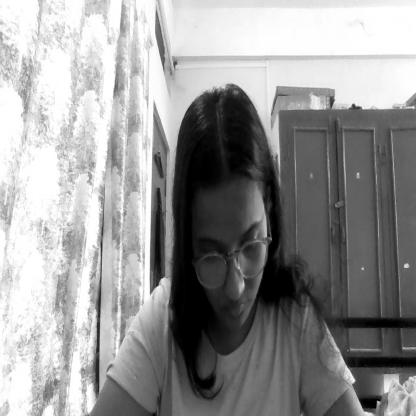Distracted: (179, 123, 278, 331)
